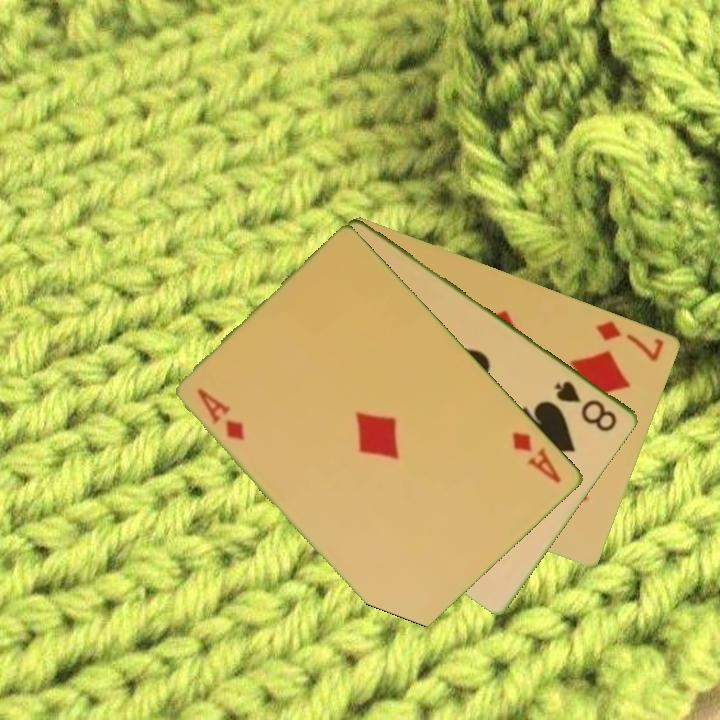7d: (592, 316, 667, 364)
8s: (551, 377, 621, 435)
Ad: (194, 384, 249, 444), (509, 428, 565, 486)
